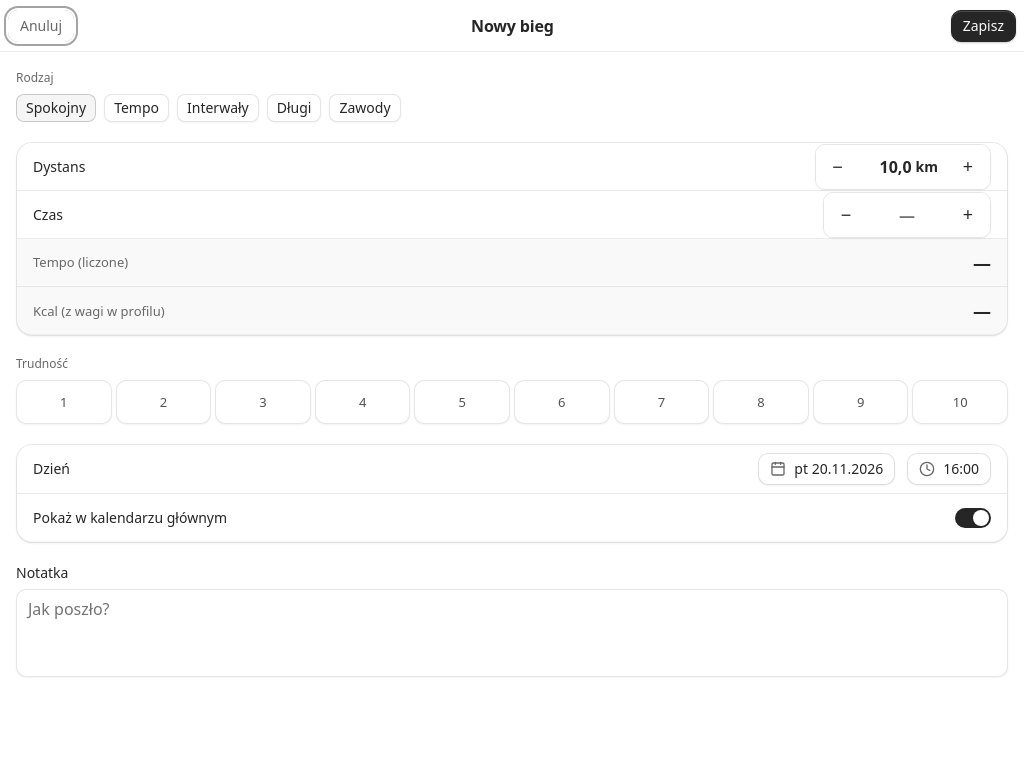
Test: MRunNew › puste pole czasu: „+” wpisuje wartość z makiety
Click the button named "Dłużej" at (968,214), box [946,192,990,236]
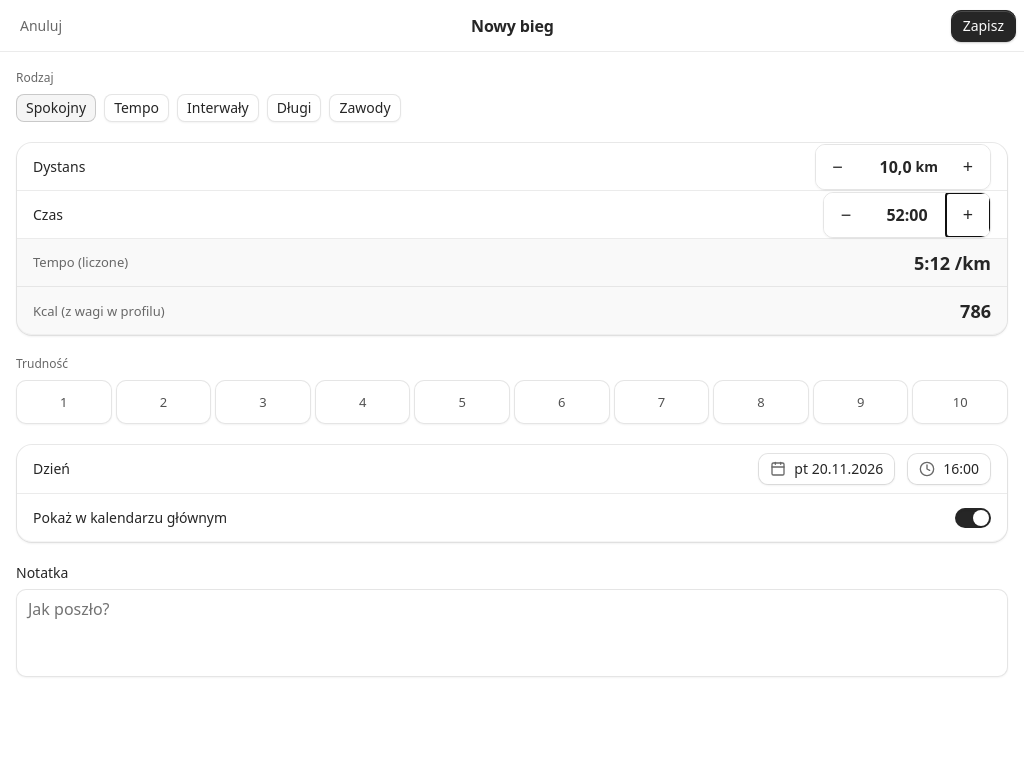
Result: the field labelled "Czas" holds "52:00" at [868,192,946,236]
